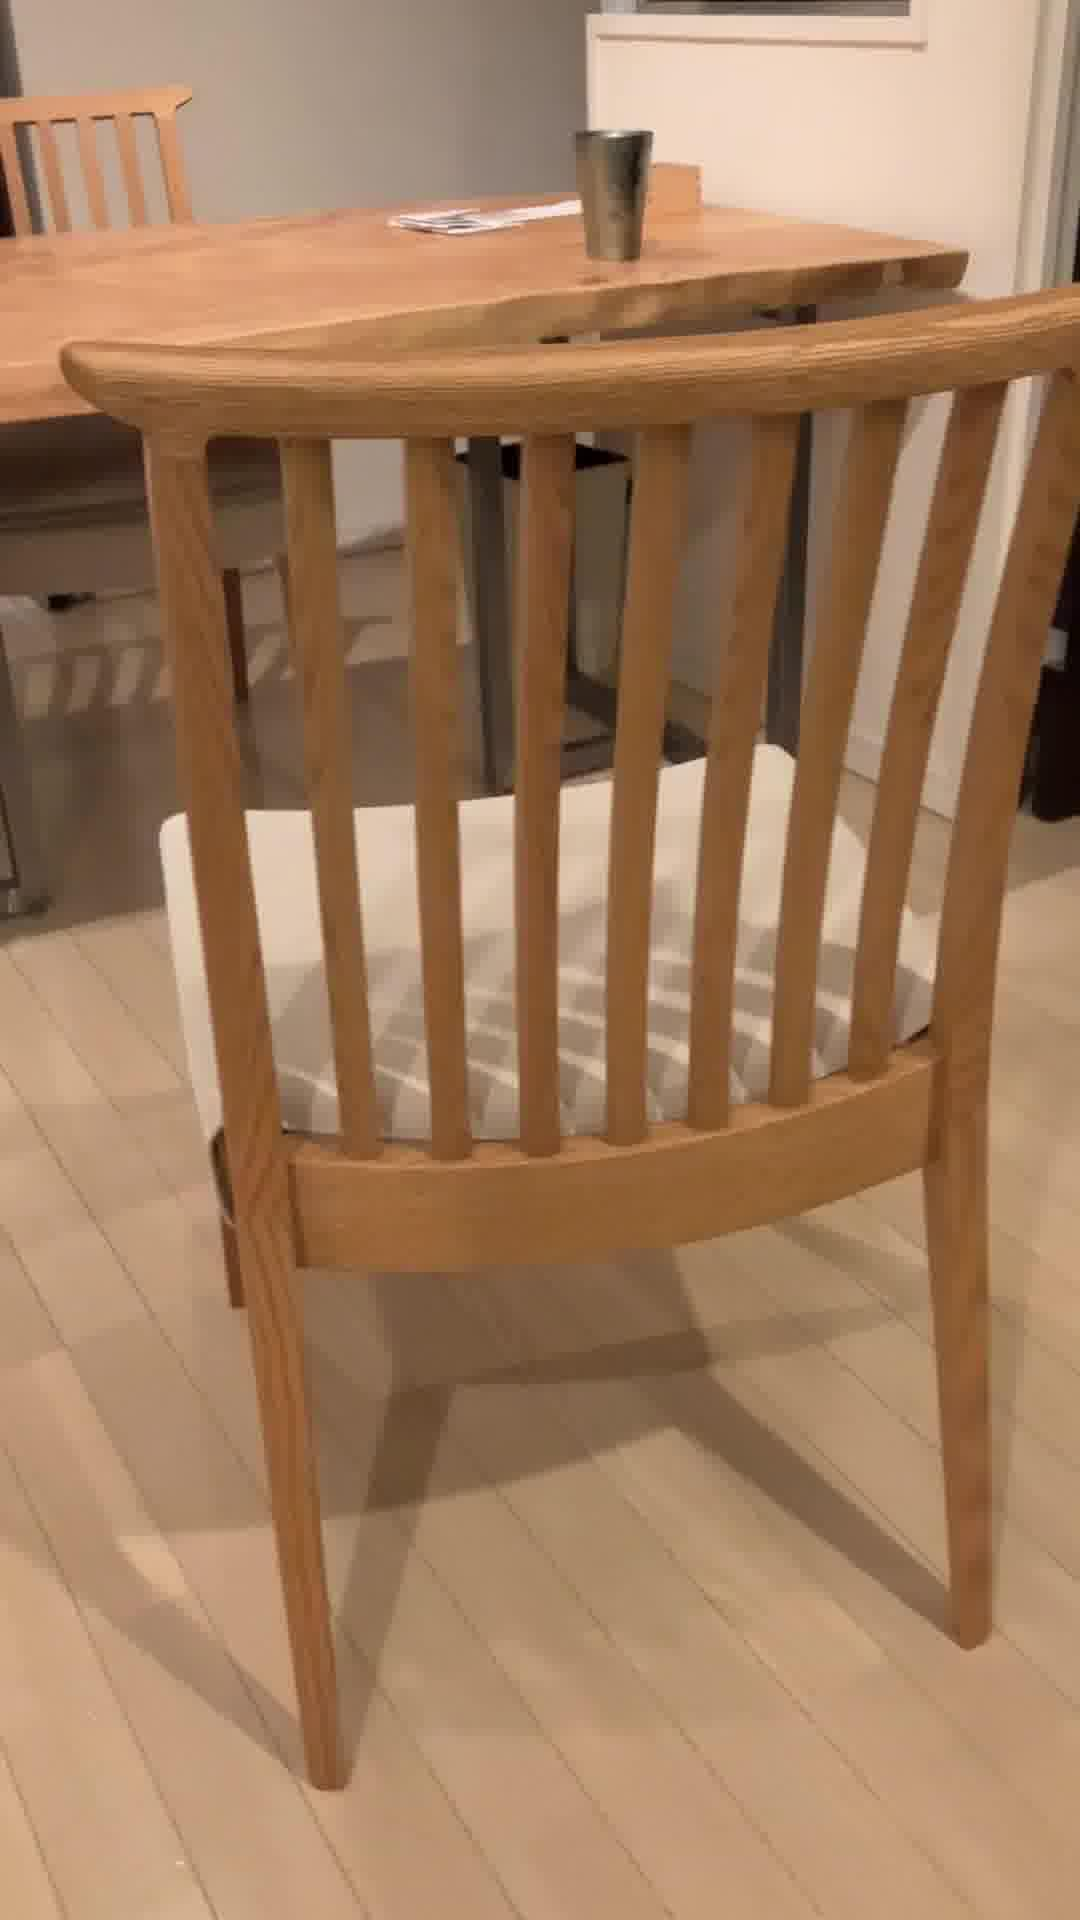takumikan-chair: (55, 280, 1080, 1793)
